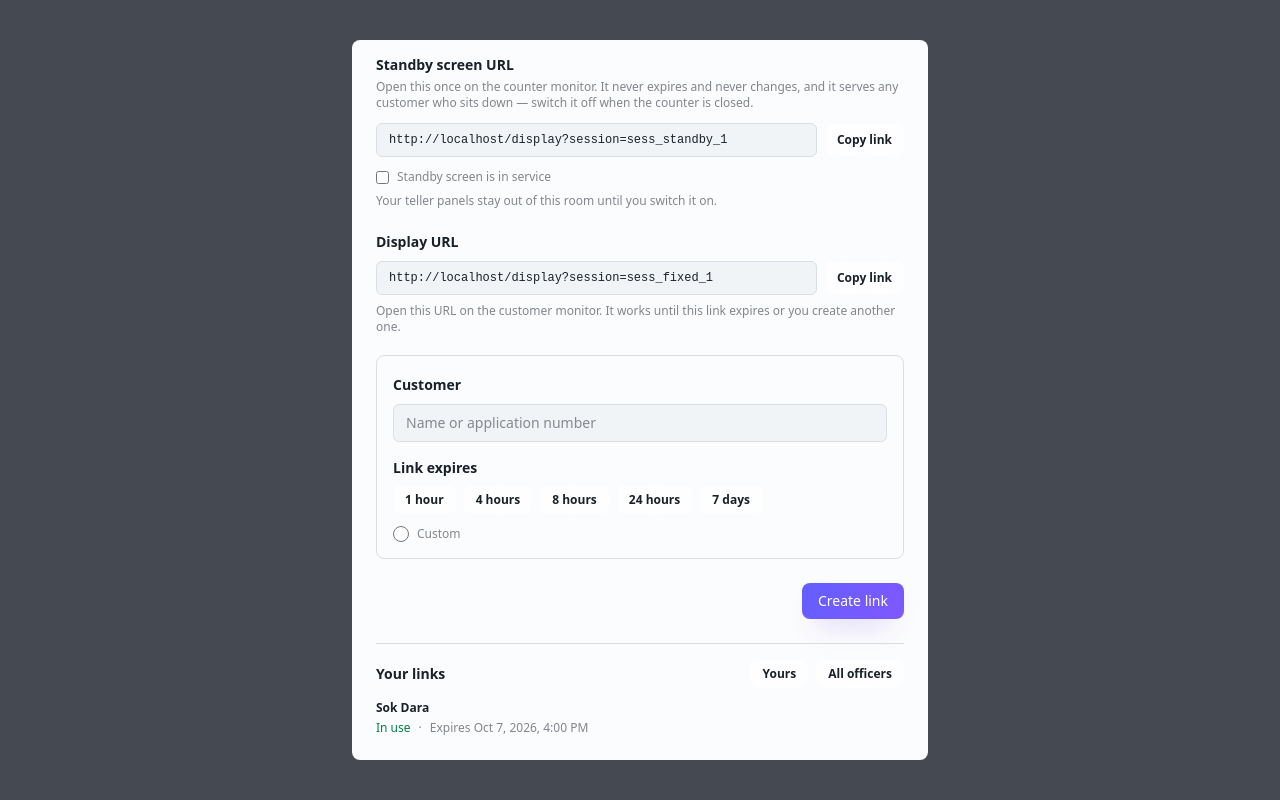
Scenario: LivenessPageModal › offers the all-officers view to an administrator, without anyone else’s token
The width and height of the screenshot is (1280, 800).
(page scrolled)
Expected: the field labelled "Display URL" is shown, [376, 261, 817, 295]
Click the button "All officers".
click(860, 674)  # box [816, 660, 904, 688]
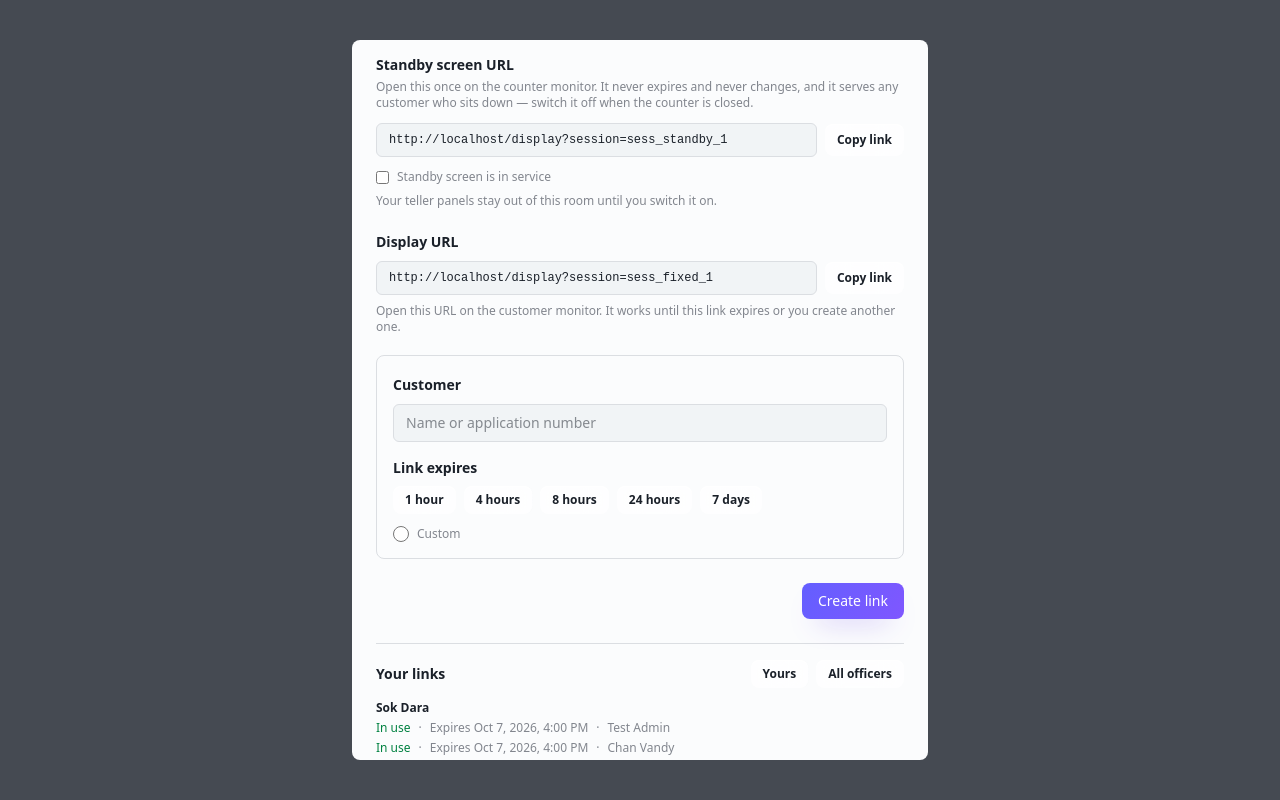
Expected: the text "Chan Vandy" is shown, [608, 740, 674, 756]
